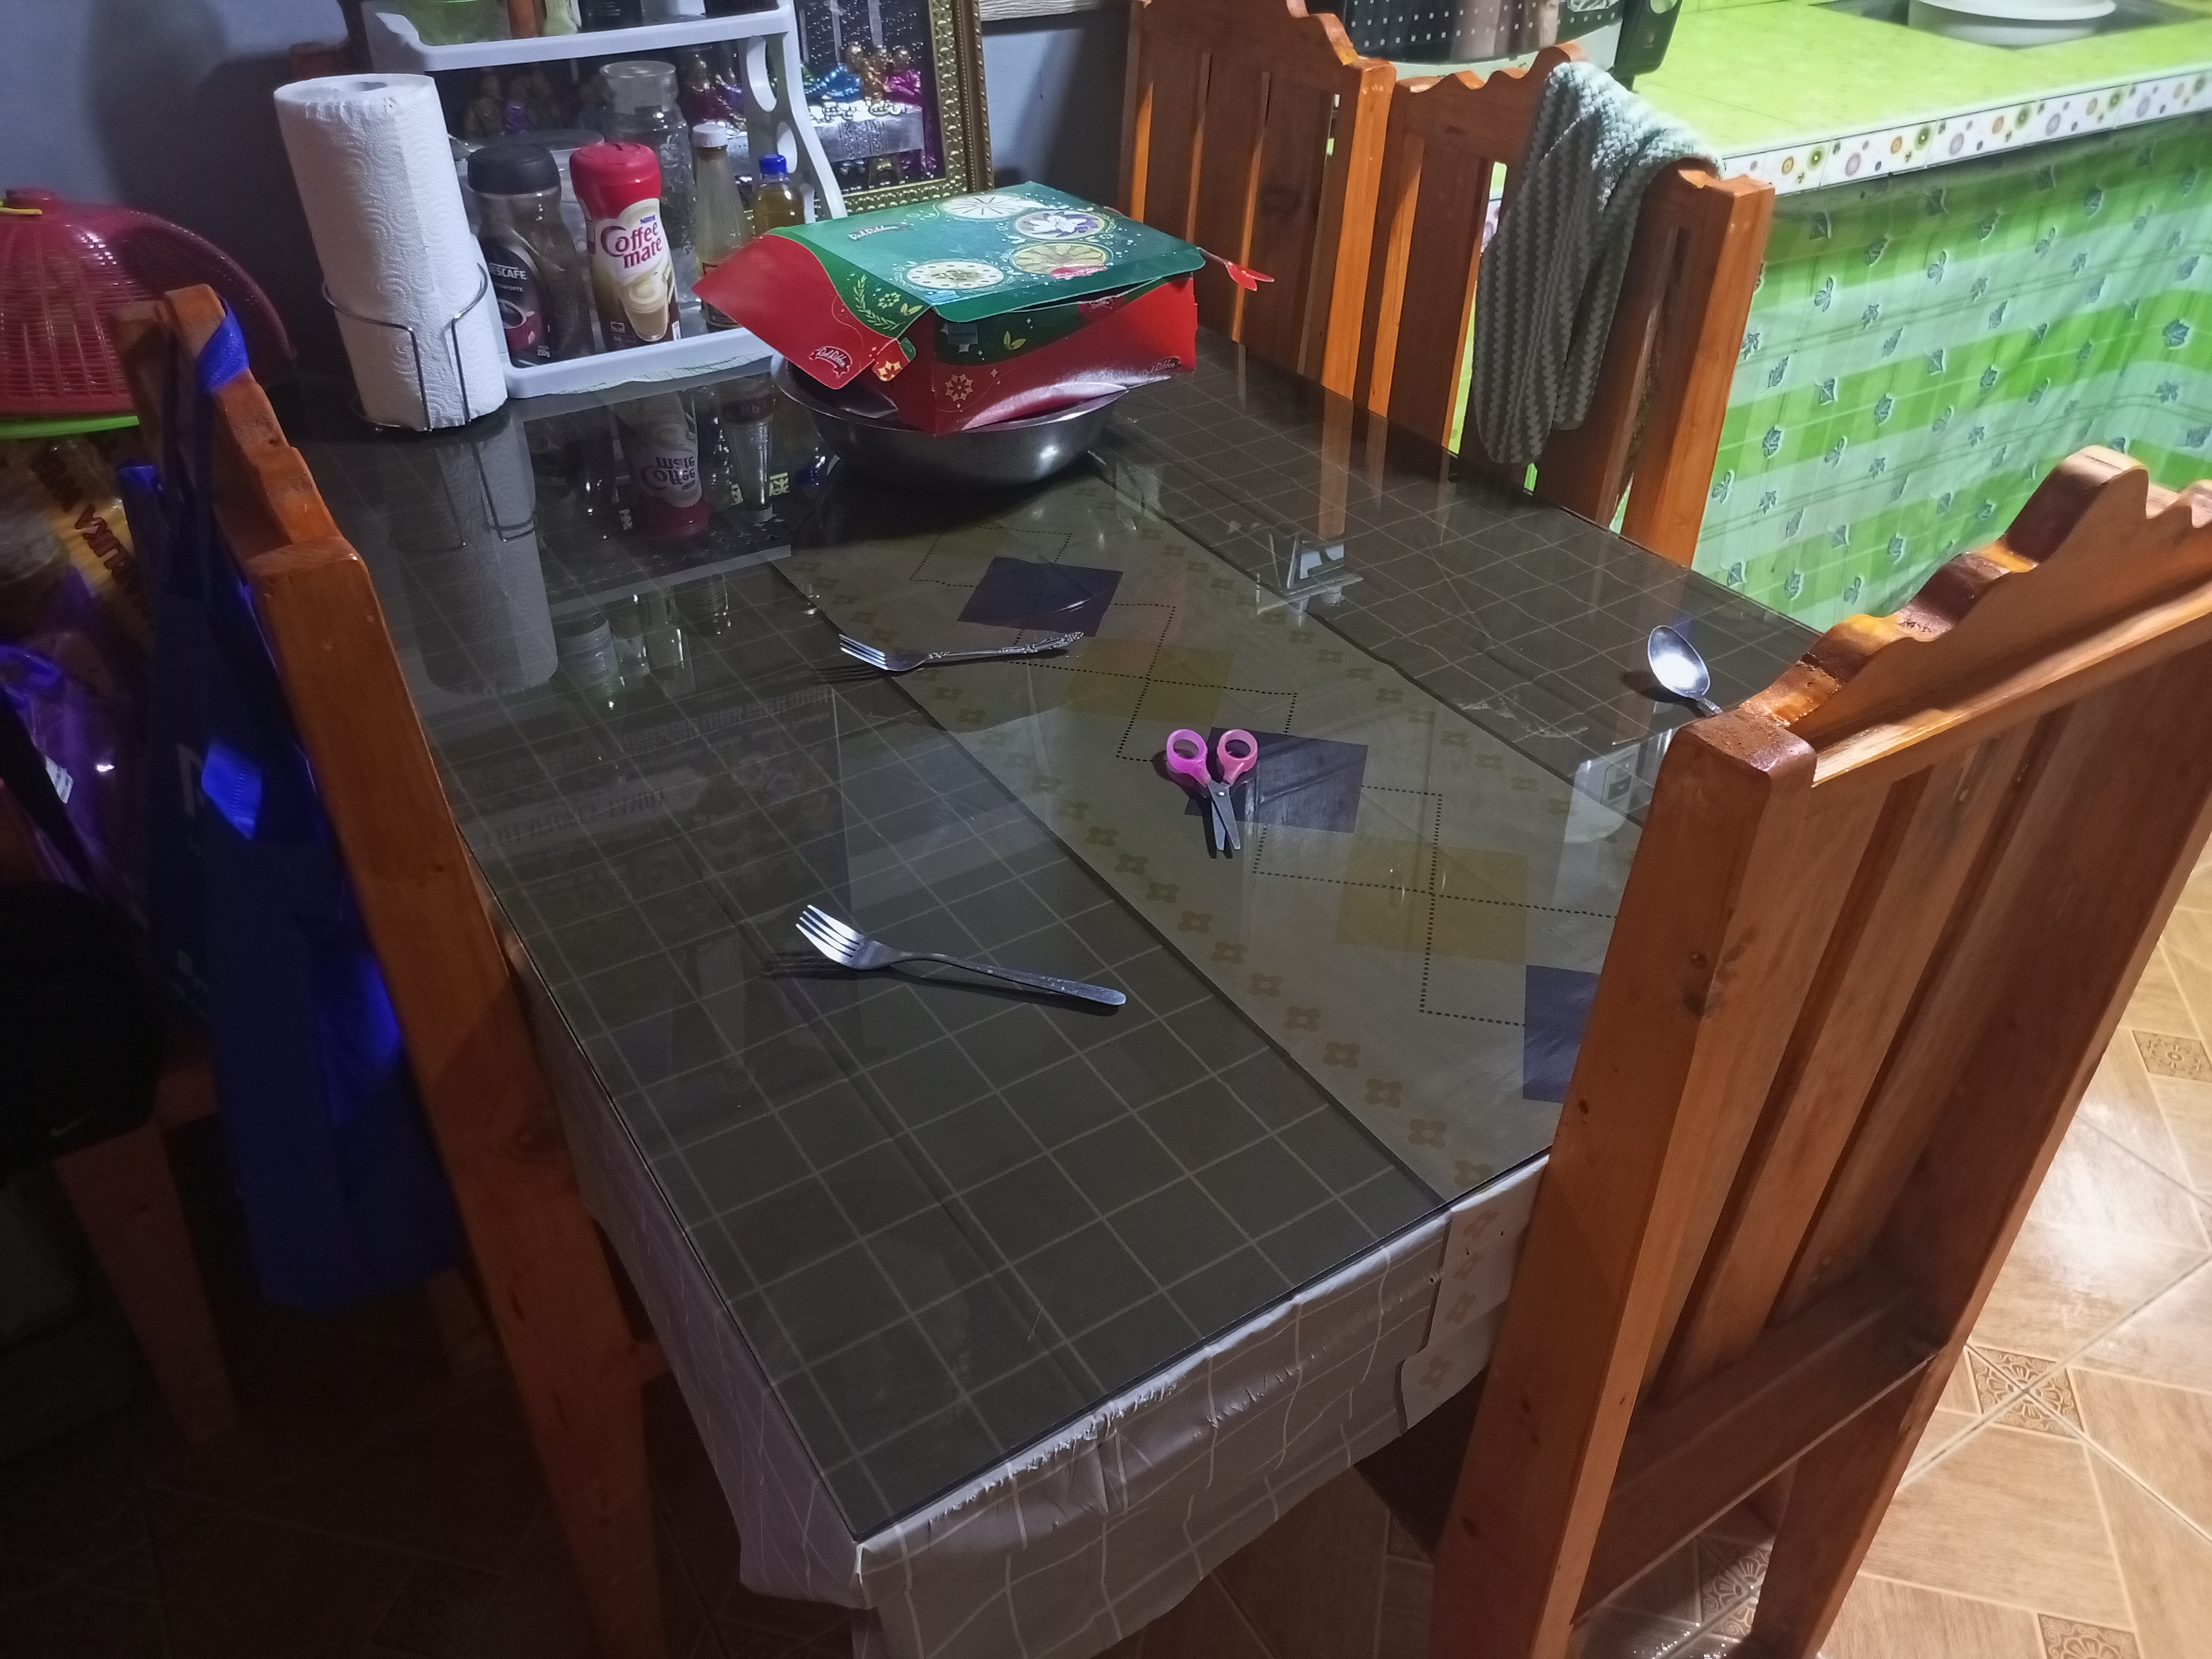fork: (789, 899, 1136, 1014)
